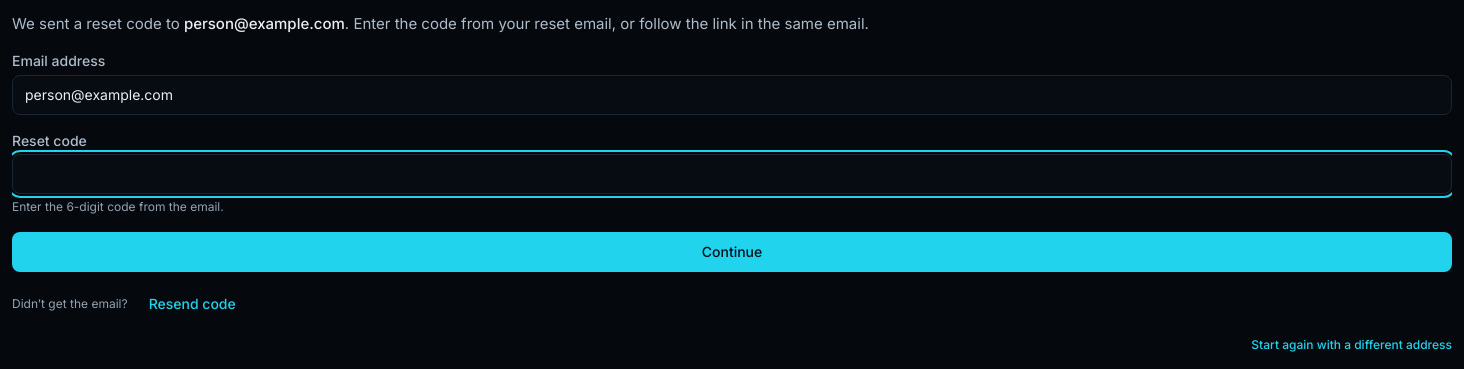
Test: entering a reset code › hands over to the ordinary password form once the provider returns a session
This screenshot has width=1464, height=369.
Type "123456" into the field labelled "Reset code" at (732, 174), box [12,154,1452,194]
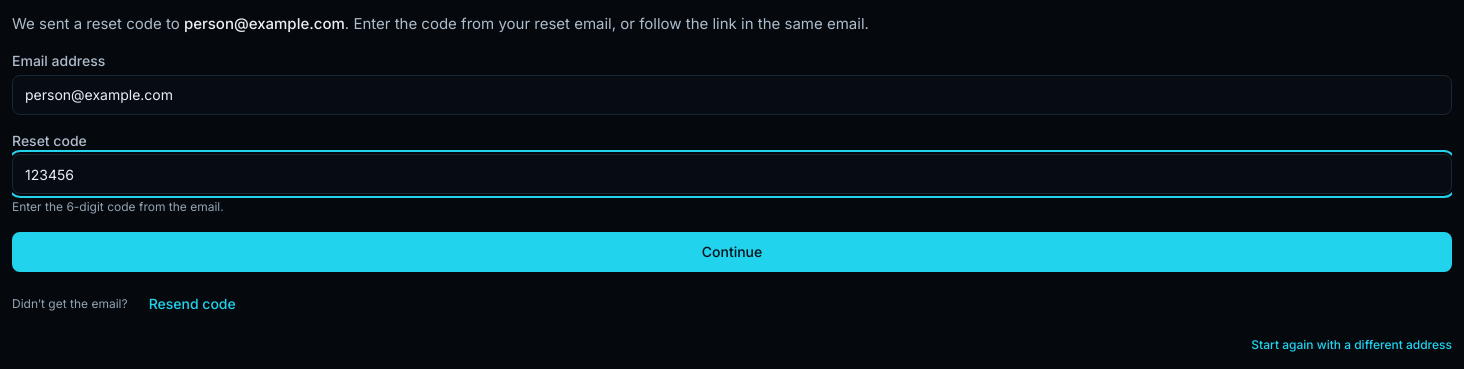
Click the button "Continue" at (732, 252), box [12,232,1452,272]
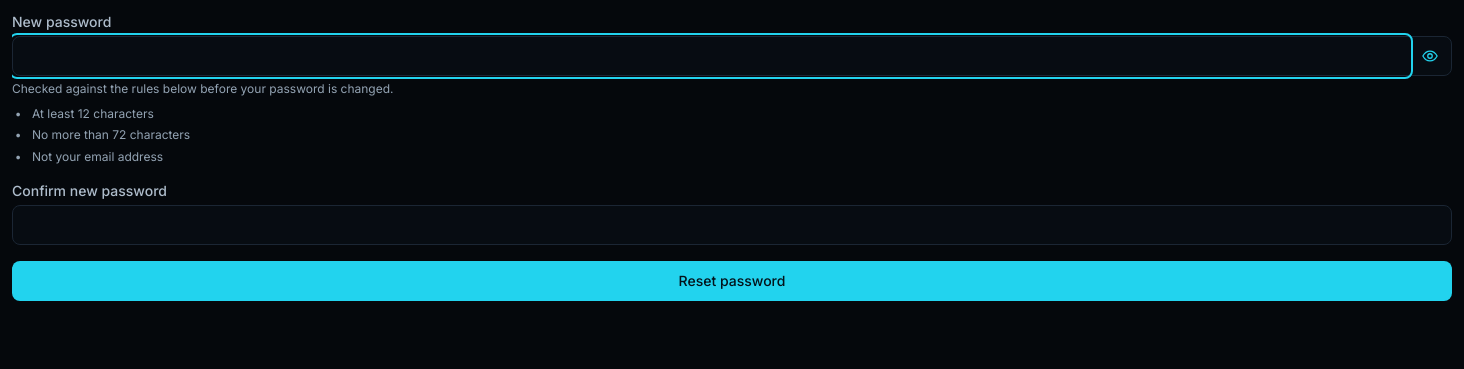
Expected: the password field labelled "New password" is shown, [13,37,1409,75]
Expected: the password field labelled "Confirm new password" is shown, [12,205,1452,245]
